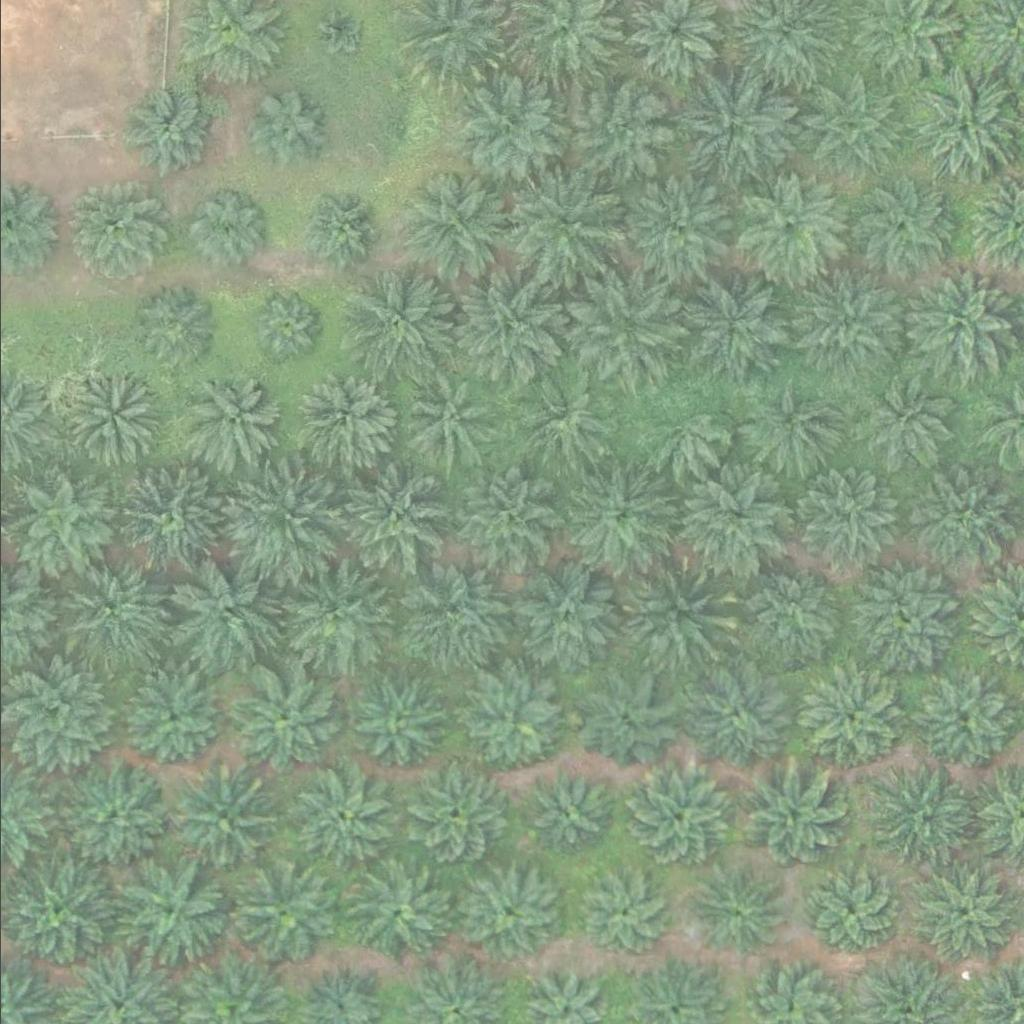Kelapa_Sawit: (864, 766, 978, 879), (349, 266, 463, 379), (618, 169, 732, 282), (508, 166, 622, 279), (789, 67, 903, 180), (679, 69, 793, 182), (898, 266, 1011, 379), (790, 464, 903, 577), (733, 760, 846, 873), (623, 762, 736, 875), (510, 561, 623, 674), (400, 557, 513, 670), (676, 466, 789, 579), (563, 457, 676, 570), (446, 463, 559, 576), (399, 171, 512, 284), (559, 73, 672, 186), (228, 465, 341, 578), (111, 466, 224, 579), (280, 562, 393, 675), (166, 559, 279, 672), (55, 553, 168, 666), (113, 854, 226, 967), (334, 463, 448, 575), (568, 270, 682, 382), (451, 272, 565, 384), (904, 71, 1017, 183), (847, 170, 960, 282), (790, 269, 903, 381), (846, 568, 959, 680), (730, 559, 843, 671), (615, 558, 728, 670), (675, 268, 788, 380), (732, 168, 845, 280), (452, 78, 565, 190), (2, 461, 115, 573), (226, 666, 339, 778), (287, 761, 400, 873), (160, 768, 273, 880), (54, 761, 167, 873), (907, 473, 1008, 573), (914, 673, 1015, 773), (686, 862, 787, 962), (458, 863, 559, 963), (341, 863, 442, 963), (404, 767, 505, 867), (799, 666, 900, 766), (687, 663, 788, 763), (571, 672, 672, 772), (461, 673, 562, 773), (347, 670, 448, 770), (741, 378, 842, 478), (290, 366, 391, 466), (178, 372, 279, 472), (60, 367, 161, 467), (121, 672, 222, 772), (910, 865, 1010, 965), (800, 862, 900, 962), (515, 370, 615, 470), (396, 374, 496, 474), (66, 184, 166, 284), (238, 864, 338, 964), (522, 771, 610, 859), (637, 387, 725, 475), (126, 93, 214, 181), (861, 382, 949, 469), (579, 871, 667, 958), (241, 87, 329, 174), (291, 186, 379, 273), (182, 183, 270, 270), (127, 285, 215, 372), (248, 288, 323, 363), (314, 5, 365, 55), (378, 102, 428, 152)
